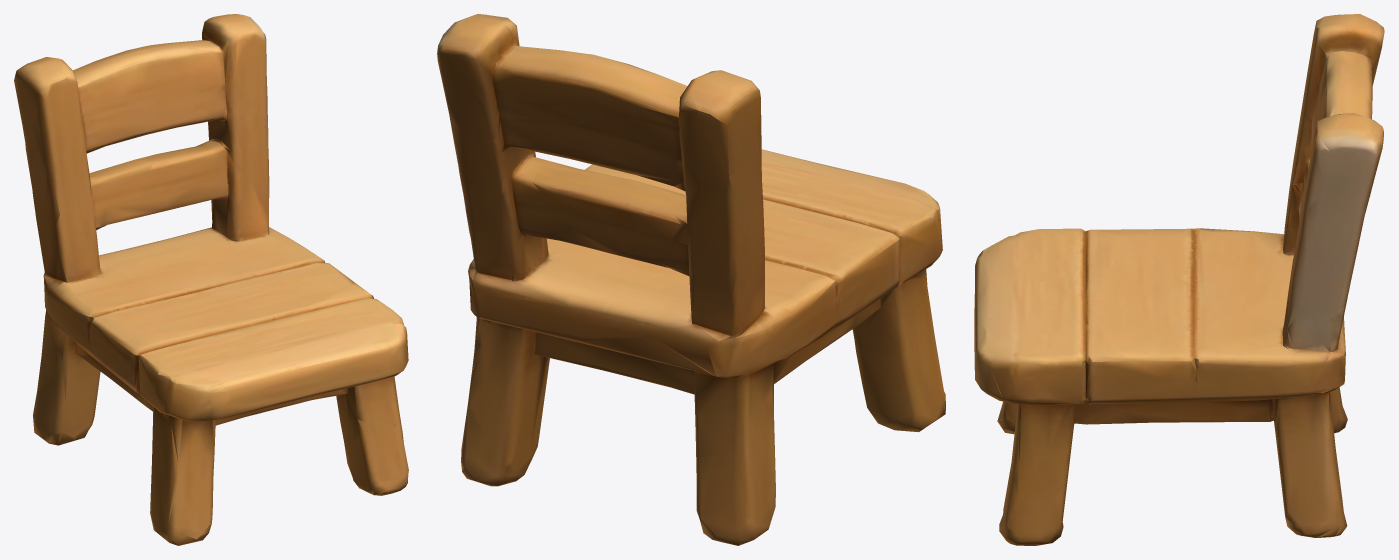
File: chair01.glb
The picture shows the model from 3 angles, left to right: view 1: azimuth 30°, elevation 25°; view 2: azimuth 150°, elevation 25°; view 3: azimuth 270°, elevation 25°; orthographic projection. The views are drawn at different scales.
Bounding box in the file's own units: 0.1549 × 0.2219 × 0.1995.
Materials: 1 (1 with a texture image).
